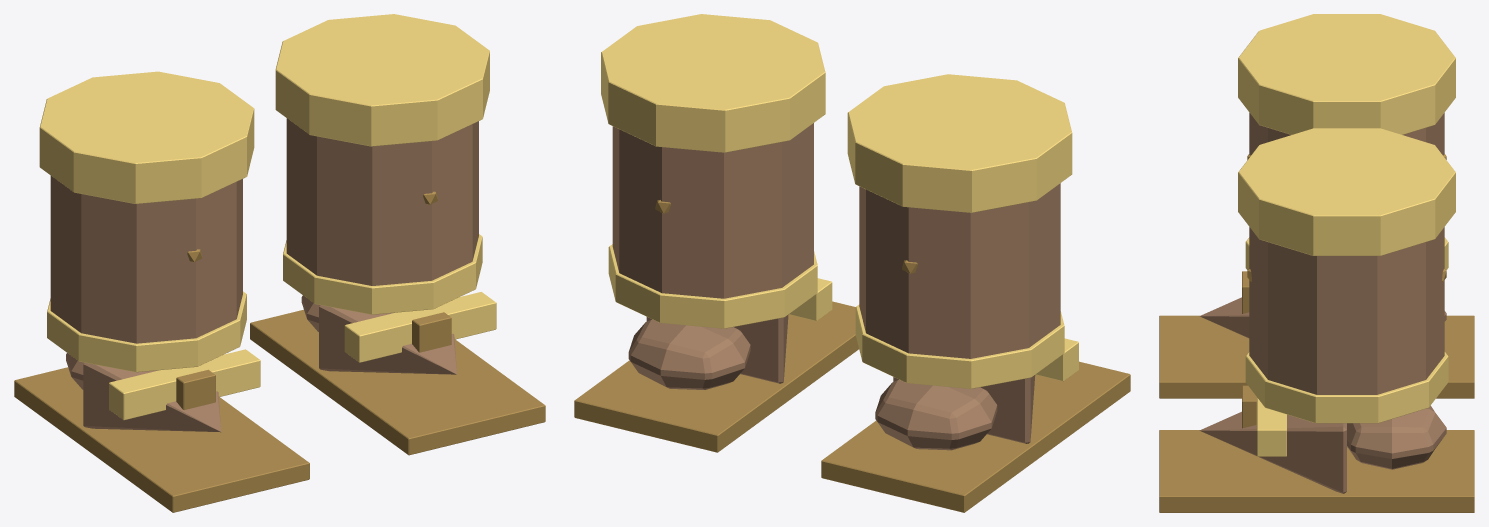
Rendered from boots_brown.glb.
3 views of the same model, side by side, from view 1: azimuth 30°, elevation 25°; view 2: azimuth 150°, elevation 25°; view 3: azimuth 270°, elevation 25° (orthographic). The views are drawn at different scales.
Visible parts, largest first — view 1: Boots; view 2: Boots; view 3: Boots.
Boxes of the visible parts, <box> form: Boots: <box>14,14,545,512</box>; Boots: <box>574,14,1130,512</box>; Boots: <box>1159,14,1474,512</box>.
Bounding box in the file's own units: 0.6358 × 0.4525 × 0.42.
